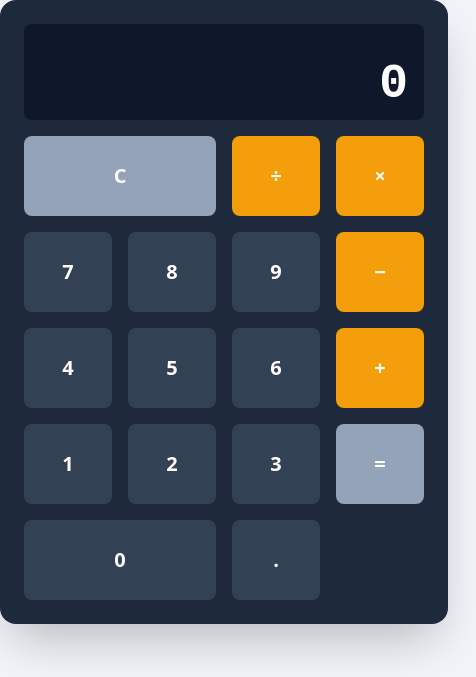
Scenario: Calculator — basic calculation flow (US1) › displays backend result after pressing 1 2 + 7 =
Click the button "1".
click(68, 464)  # box [24,424,112,504]
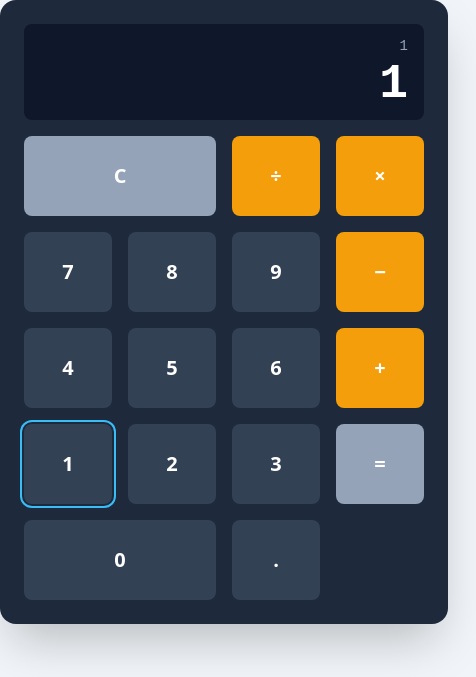
Click the button "2".
click(172, 464)  # box [128,424,216,504]
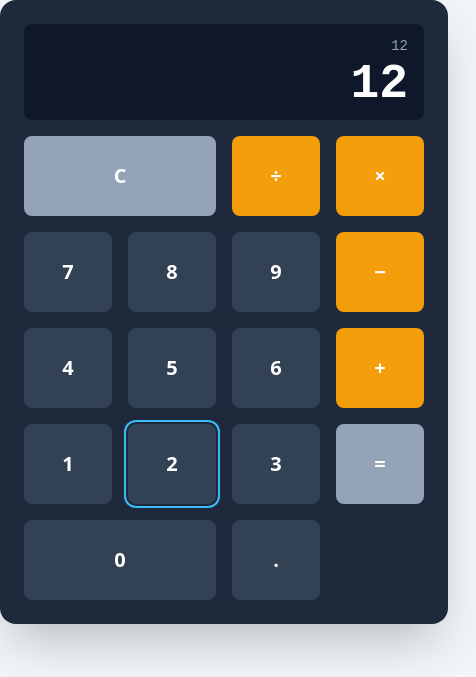
Click the button "+".
click(380, 368)  # box [336,328,424,408]
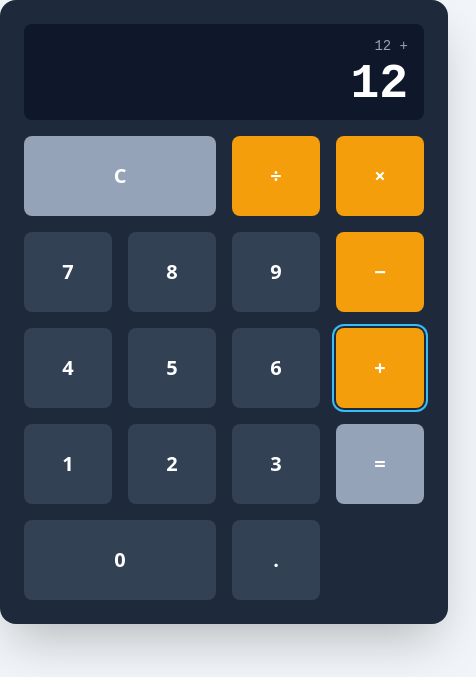
Click the button "7".
click(68, 272)  # box [24,232,112,312]
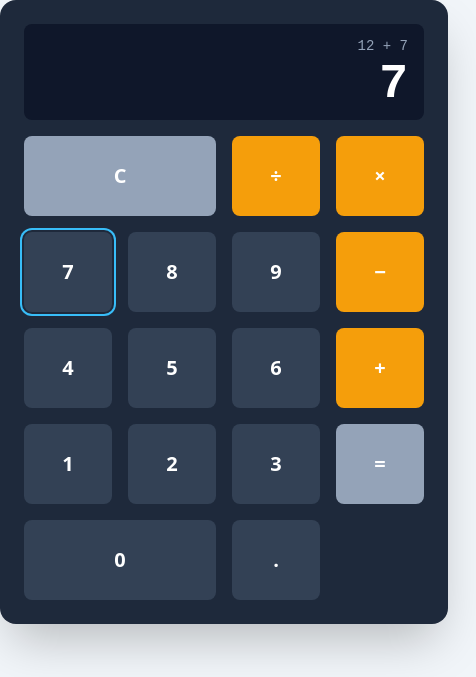
Click the button "=".
click(380, 464)  # box [336,424,424,504]
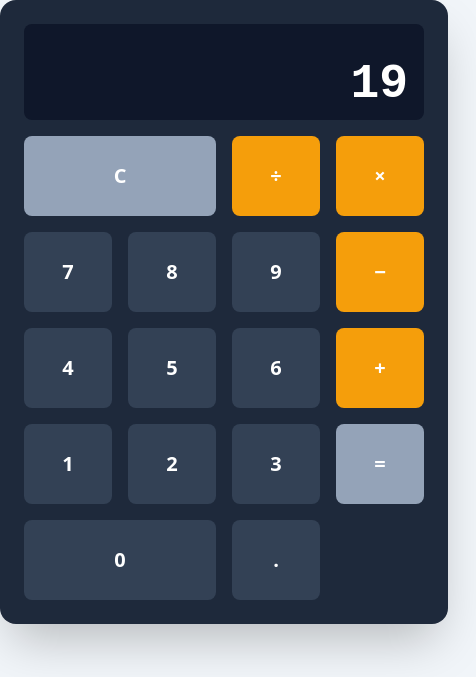
Expected: the element with test id "calculator-display" is shown, [24,24,424,120]
Result: the element with test id "calculator-display" reads "19" at [350,57,408,111]
